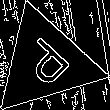P_SE: (14, 32, 77, 93)
